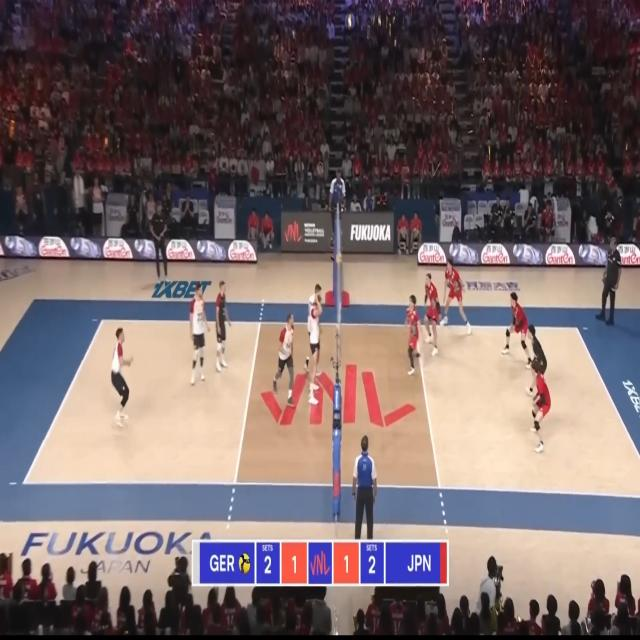ball: (336, 253, 342, 264)
